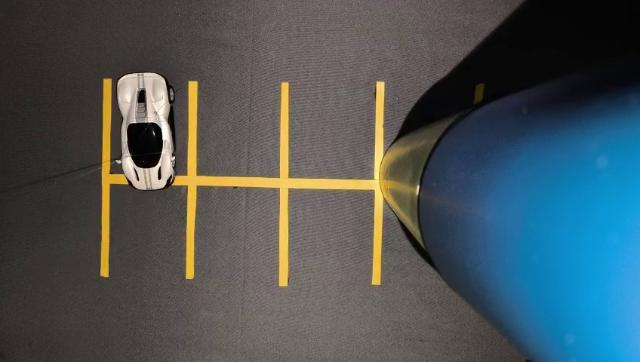toy_car: (106, 62, 201, 201)
